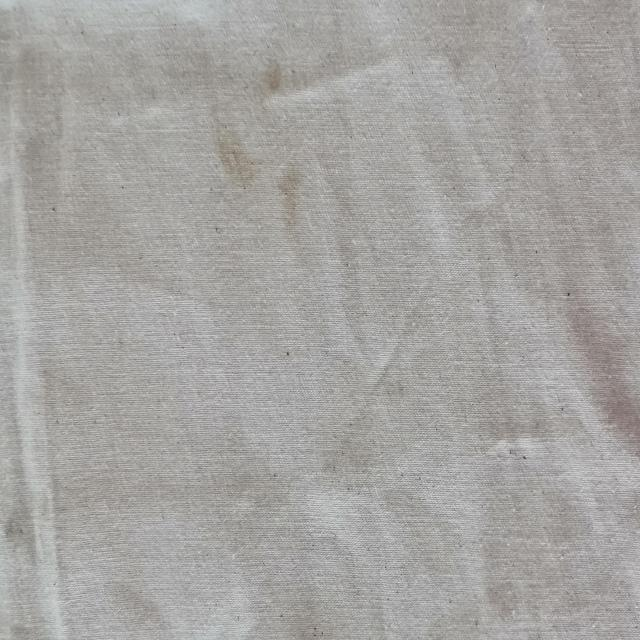taaaches: (216, 112, 260, 205), (274, 152, 304, 242), (264, 48, 288, 116)
